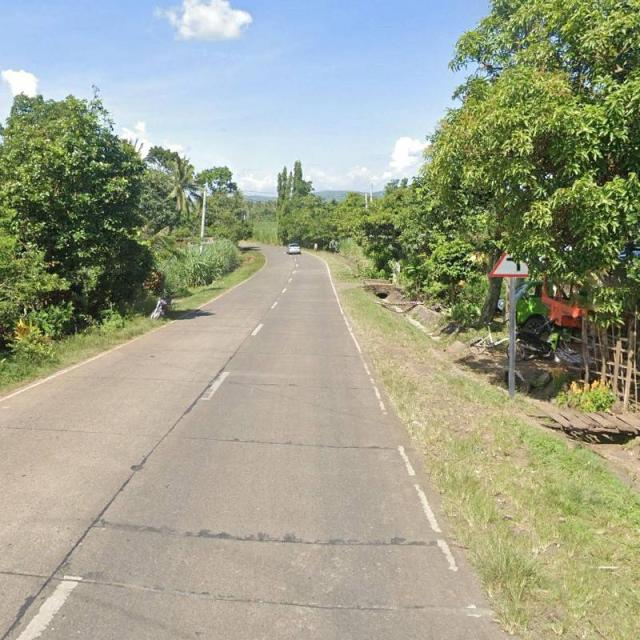warn_left_curve: (490, 238, 537, 277)
